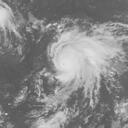cyclone: (47, 25, 118, 87)
